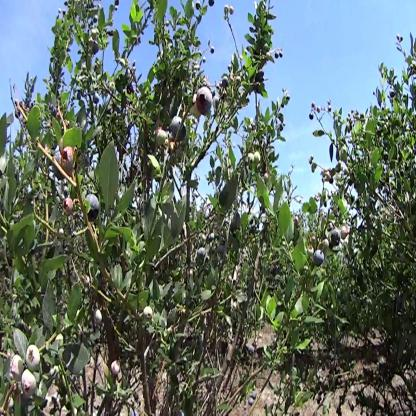intermediate: (60, 144, 77, 178), (62, 199, 75, 221), (112, 356, 125, 378), (340, 225, 351, 246)
mature: (196, 84, 215, 119), (172, 112, 189, 149), (84, 191, 102, 224), (312, 248, 326, 273), (330, 230, 342, 249), (197, 245, 207, 267)
young: (19, 370, 41, 400), (26, 345, 44, 373), (156, 127, 172, 154), (11, 355, 25, 384), (247, 151, 264, 167), (142, 306, 156, 321), (95, 309, 106, 327)
